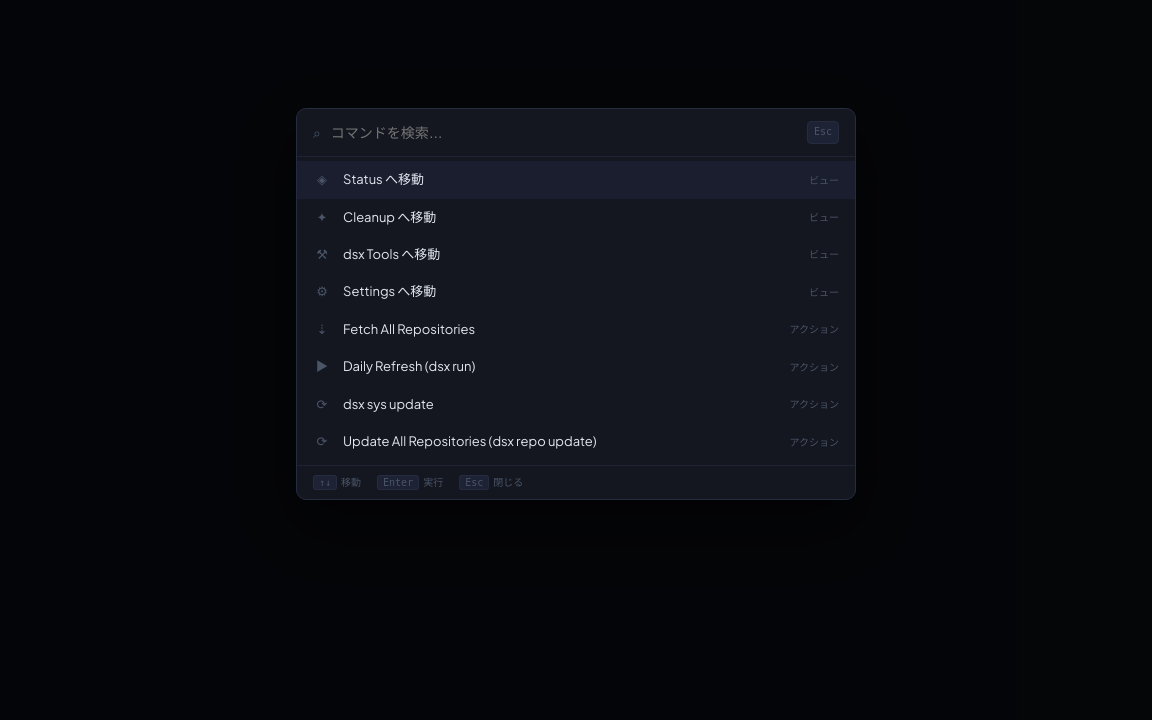
Test case: CommandPalette — フィルタリング › クエリに一致するコマンドのみ表示される
Type "clean" into the dropdown.
click(569, 132); type("clean")  # box [331,124,807,140]
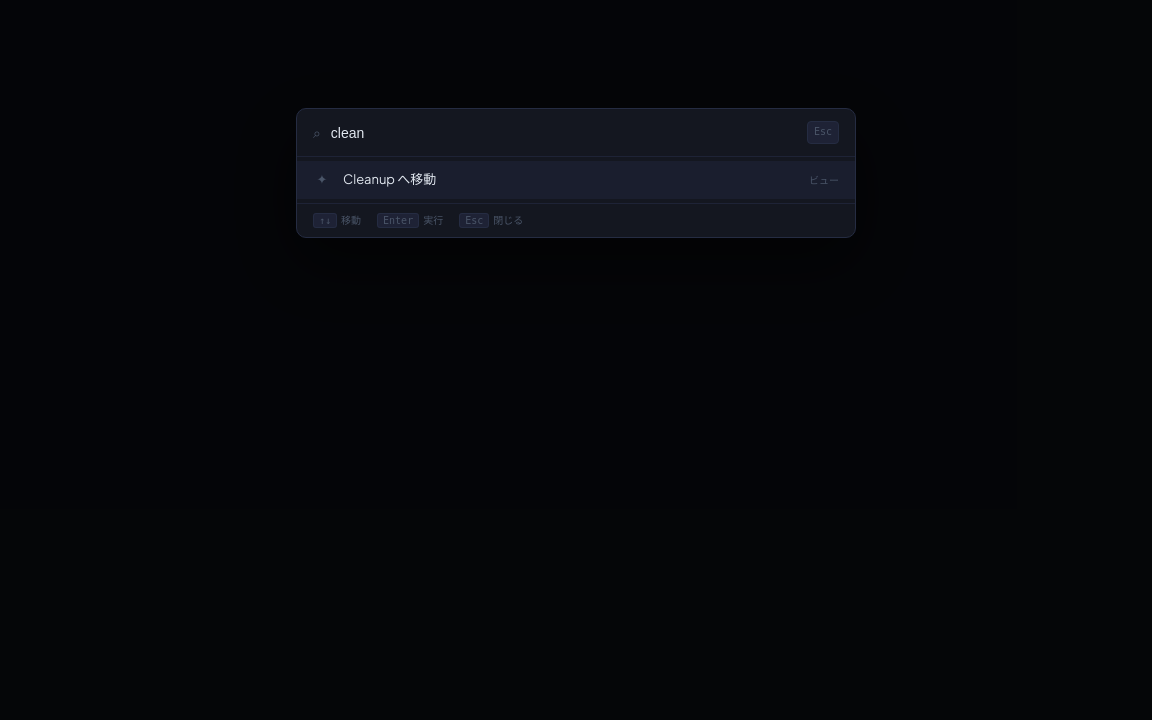
Check: the text "Cleanup へ移動" is shown, box [343,171,436,187]
Check: the option "Status へ移動" is gone
